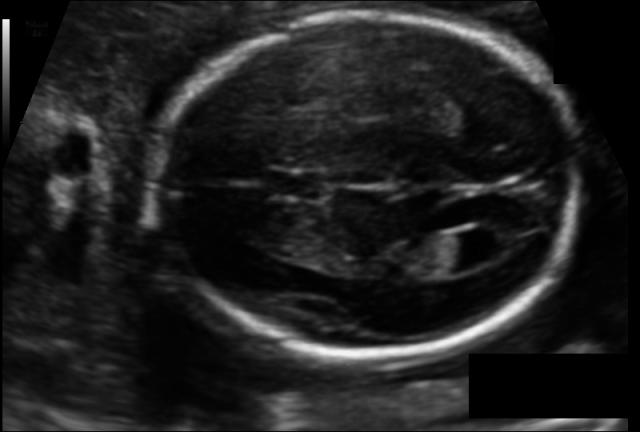CHOROID_PLEXUS: (388, 215, 478, 282)
CSP: (222, 144, 293, 208)
MIDLINE_FALX: (118, 138, 601, 229)
